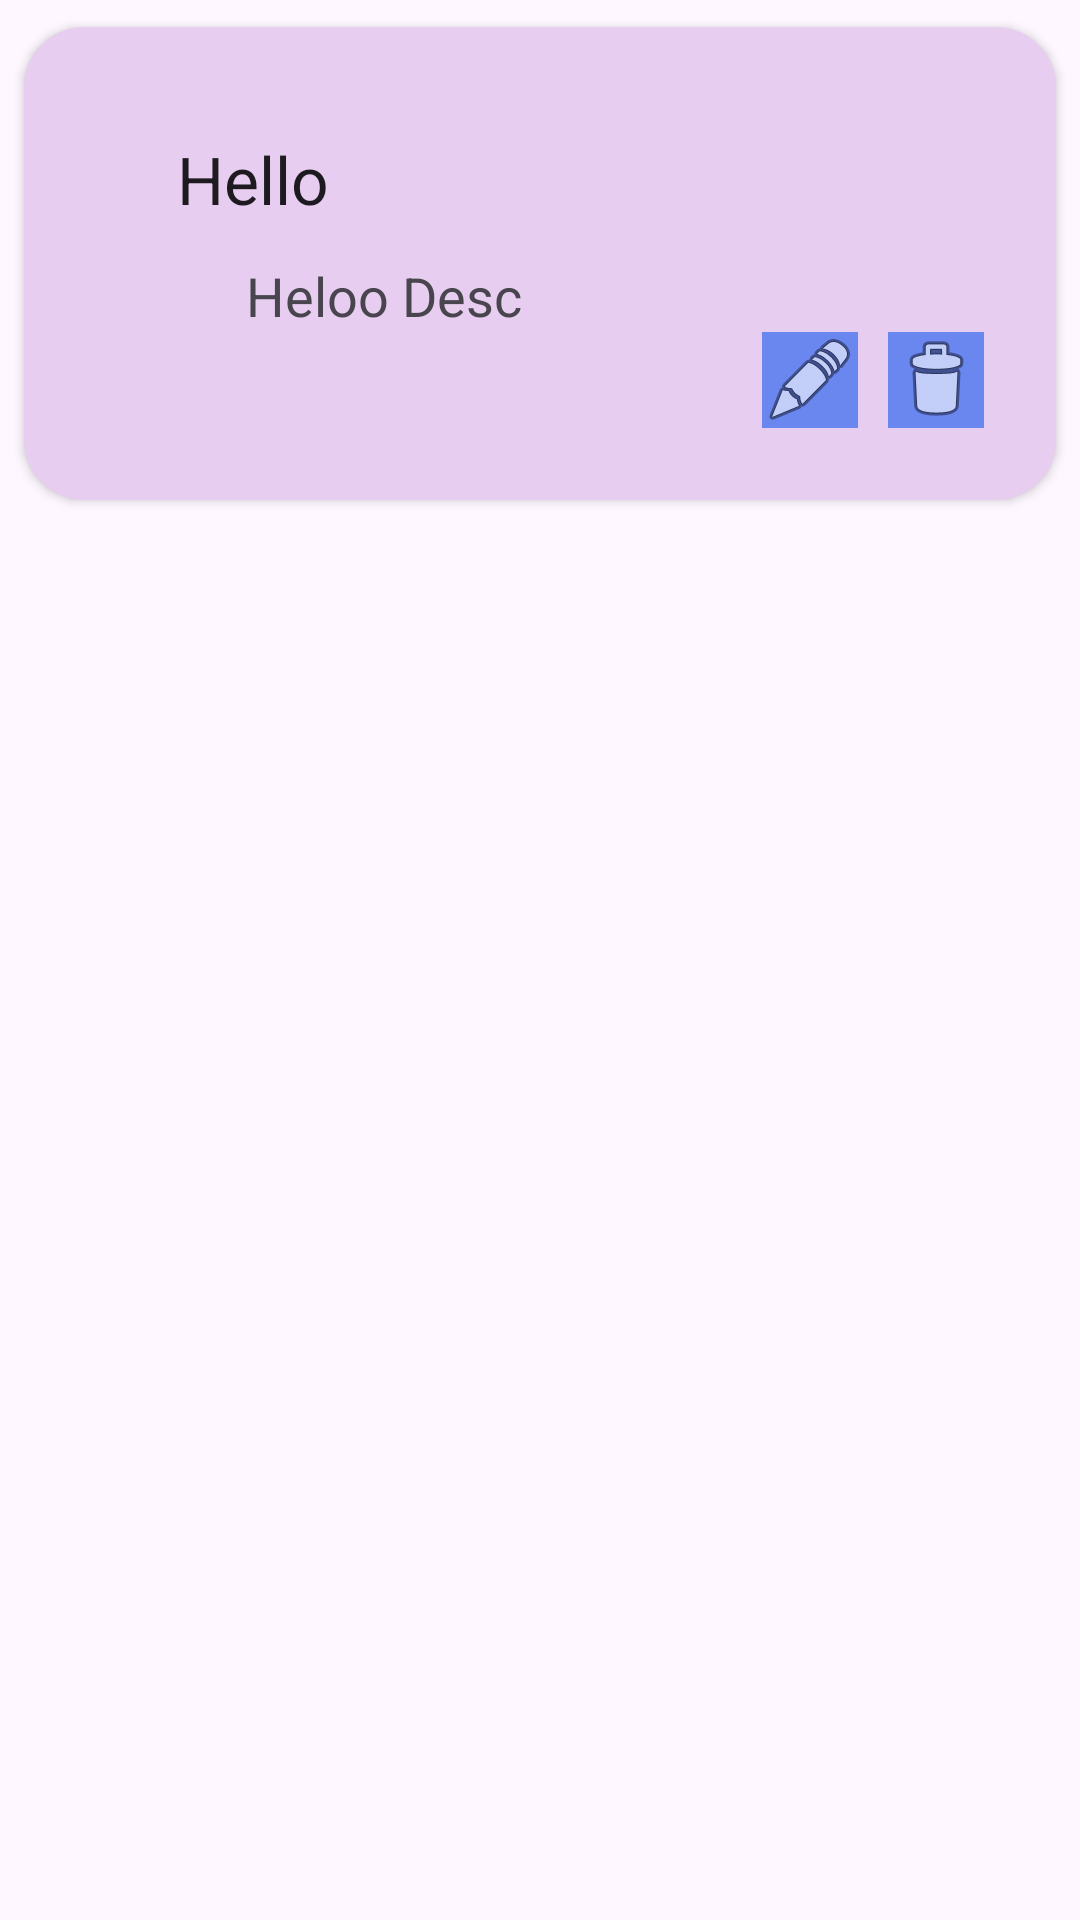

Screen size 1080x1920. Icon name, then its center in pixels as point (x, y):
delete: point (936, 380)
edit: point (810, 380)
